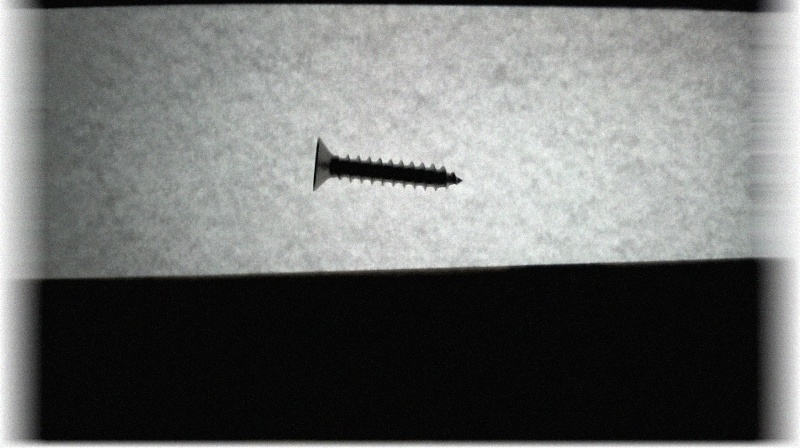S001: (309, 134, 466, 196)
